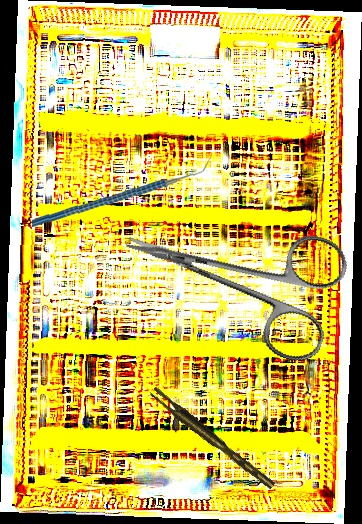Chopper: (31, 150, 212, 234)
Iris Scissors: (107, 176, 355, 369)
Tissue Forceps: (148, 382, 276, 496)
